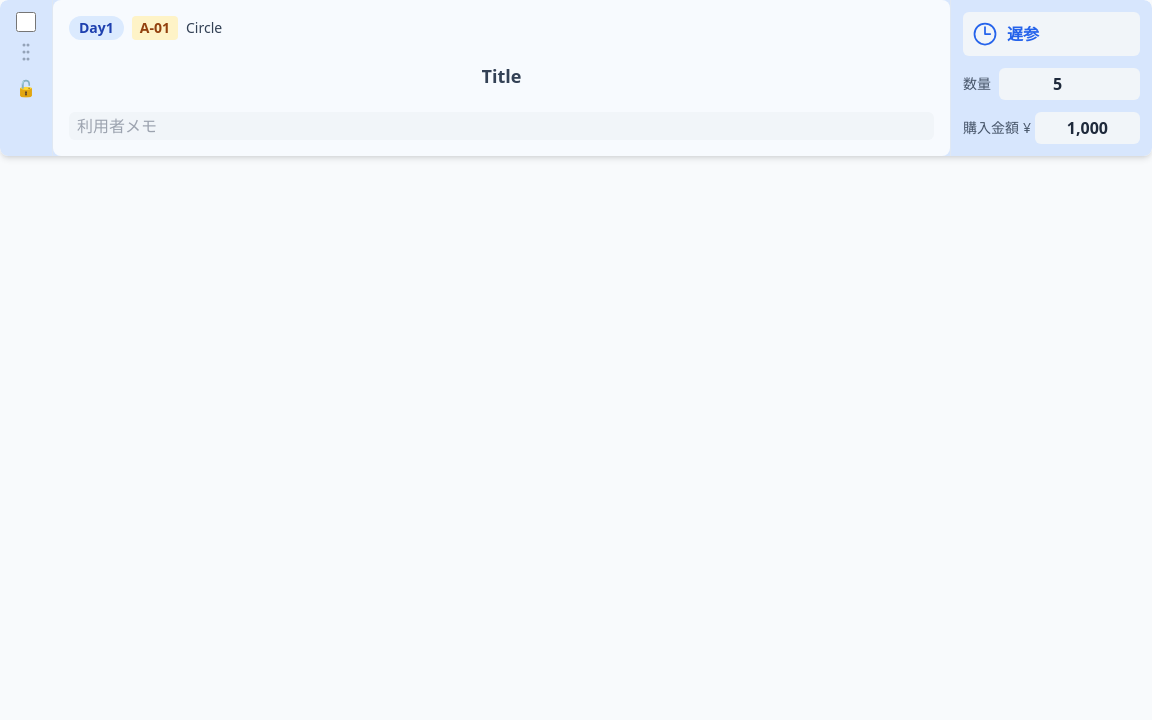
Test: ShoppingItemCard purchase status control › opens the limited purchase dialog without saving when cycle reaches LimitedPurchase
The image size is (1152, 720).
Click the button with aria-label "Current status": {"x": 1052, "y": 34} [963,12,1140,56]
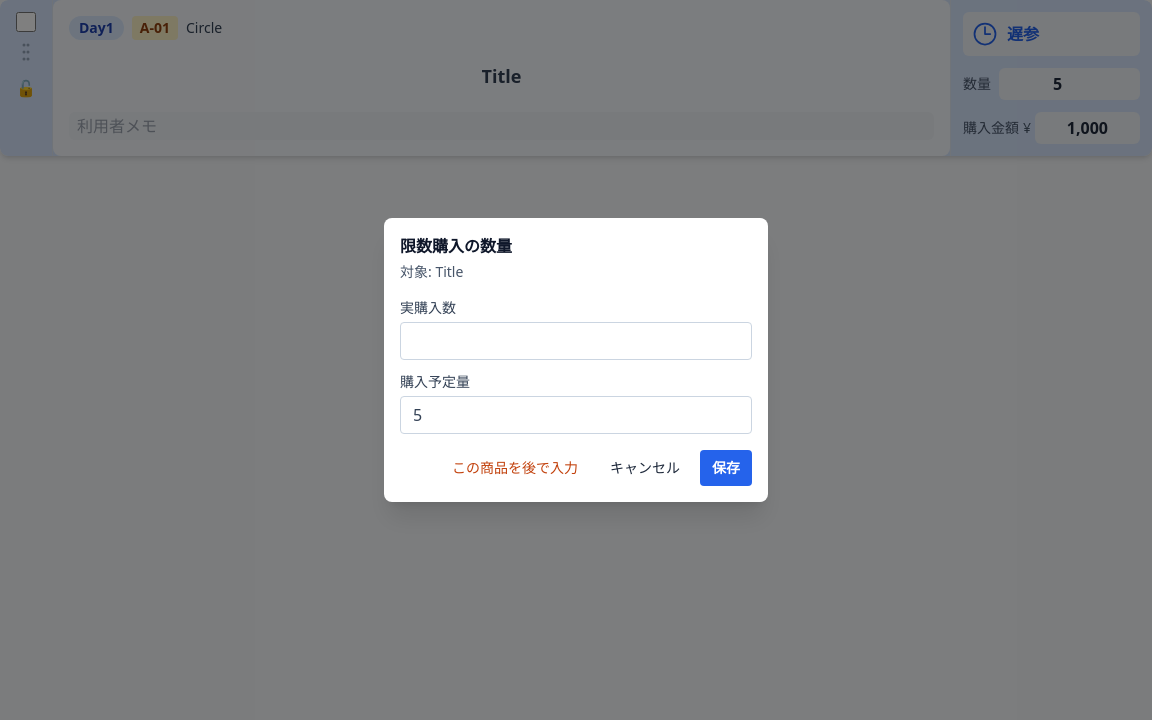
Now the dialog "限数購入の数量" is shown
Click the button "キャンセル": {"x": 645, "y": 468} [598,450,692,486]
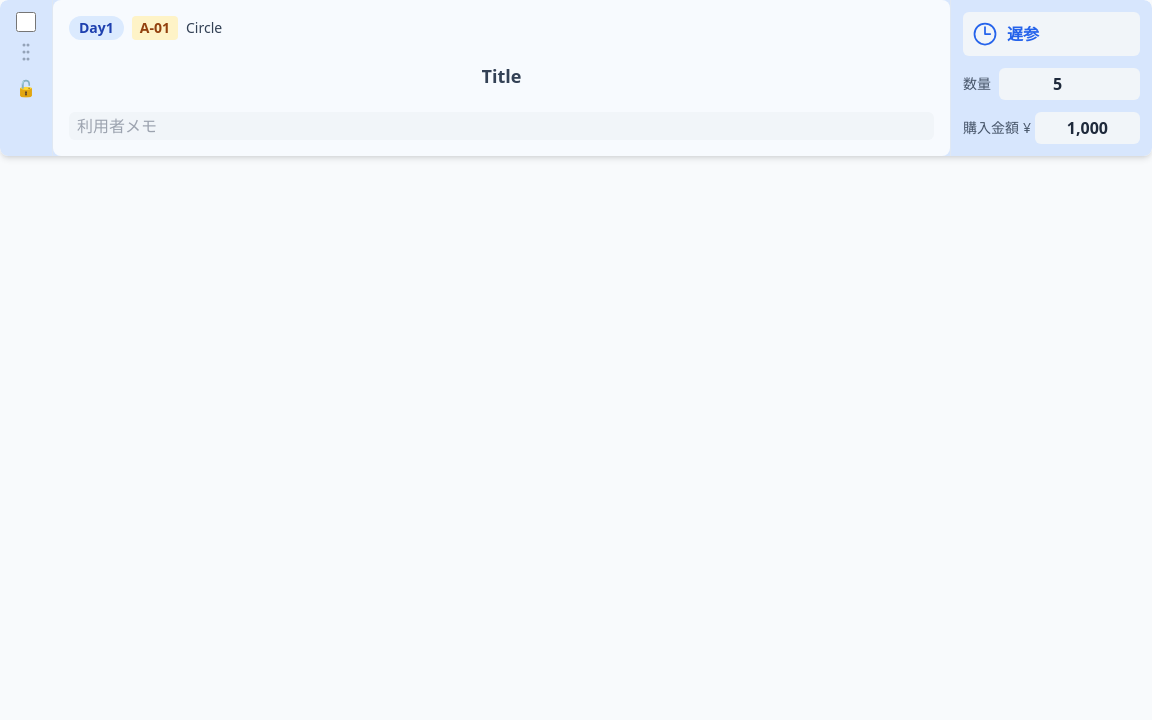
Now the heading "限数購入の数量" is gone
